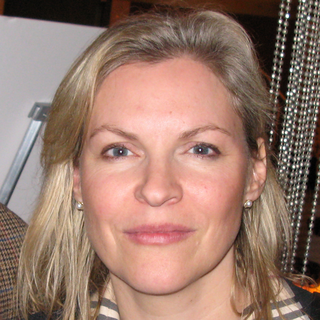eye: (95, 141, 142, 165), (180, 139, 226, 163)
